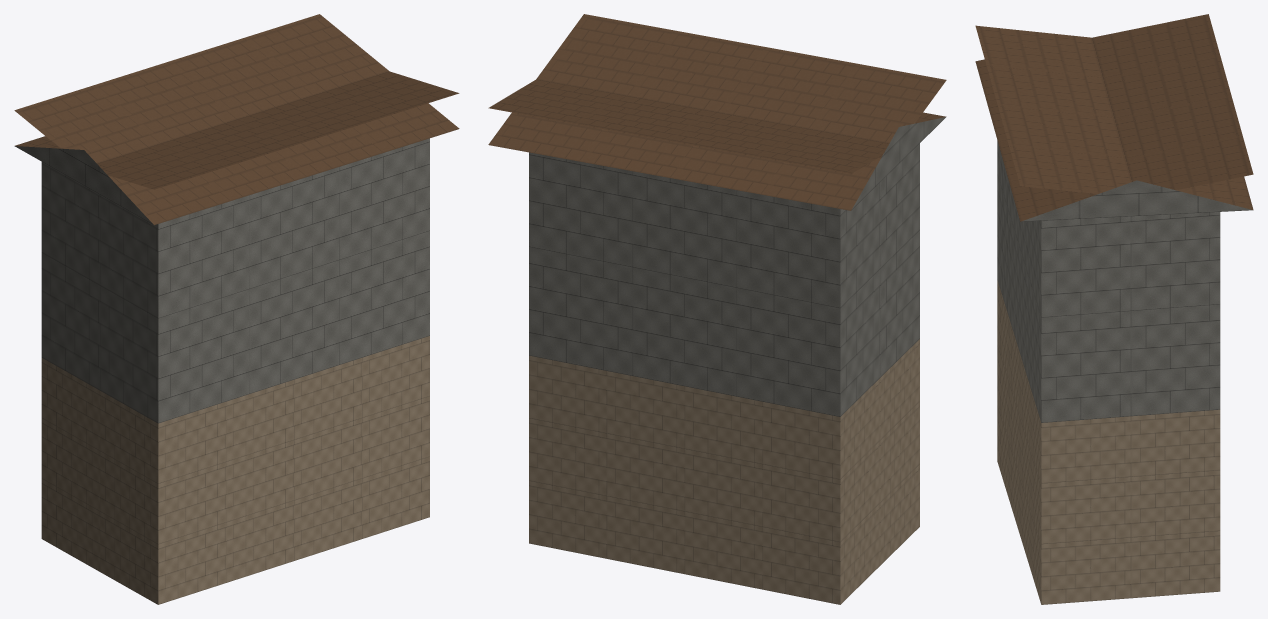
The model's file is bld_c30_-40_467.gltf.
3 renders of one model, left to right at view 1: azimuth 30°, elevation 25°; view 2: azimuth 150°, elevation 25°; view 3: azimuth 270°, elevation 25°, orthographic. The views are drawn at different scales.
Visible parts, largest first — view 1: bld_c30_-40_467; view 2: bld_c30_-40_467; view 3: bld_c30_-40_467.
Boxes of the visible parts, x1=… form: bld_c30_-40_467: x1=14, y1=14, x2=459, y2=604; bld_c30_-40_467: x1=488, y1=14, x2=946, y2=604; bld_c30_-40_467: x1=975, y1=14, x2=1253, y2=604.
Size of the model in its own units: 10.35 by 12 by 7.07.
4 materials, 4 textured.
